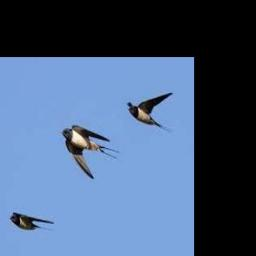Swallow: (62, 124, 121, 178), (128, 92, 173, 133), (10, 212, 55, 231)
